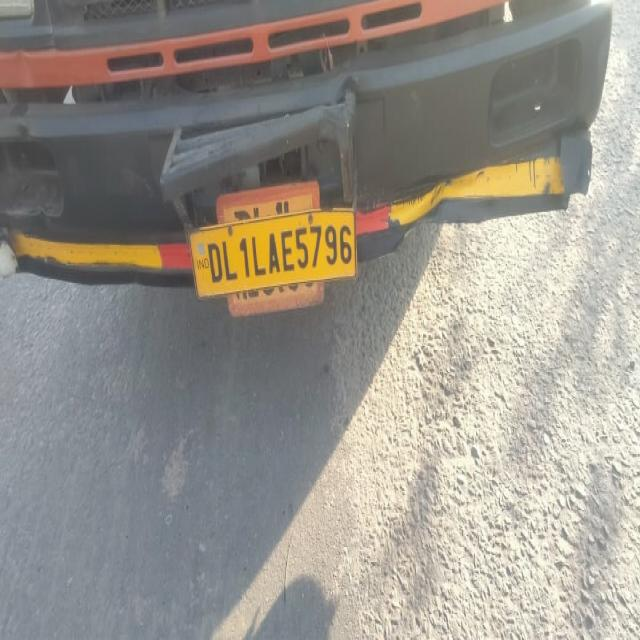License-plate: (189, 214, 362, 295)
